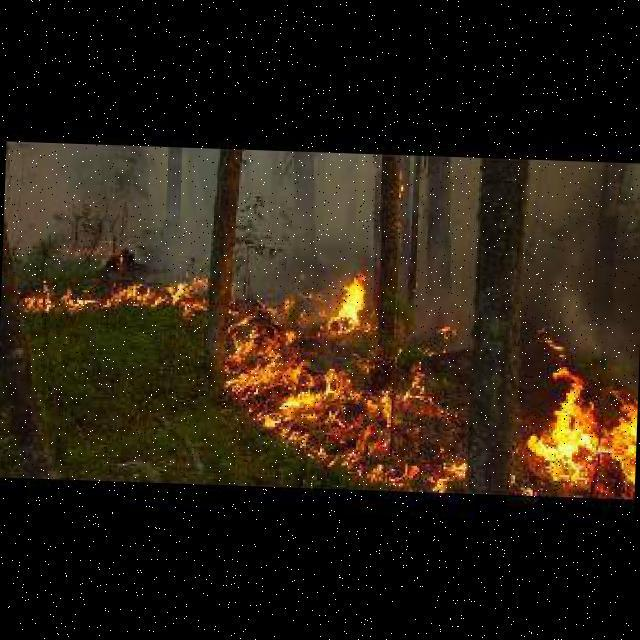Fire: (219, 271, 640, 493), (12, 239, 209, 322)
